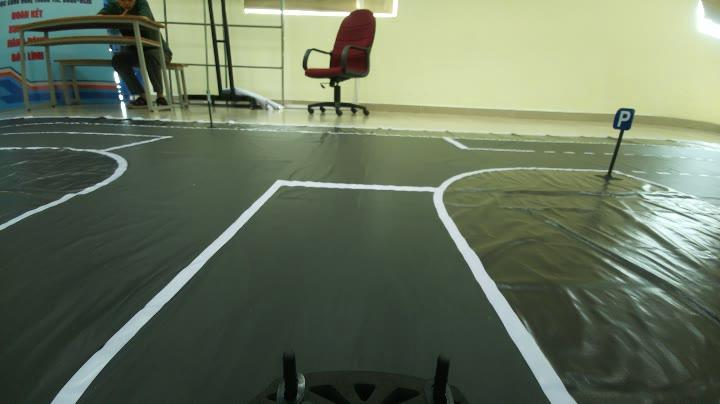parking: (611, 106, 637, 133)
